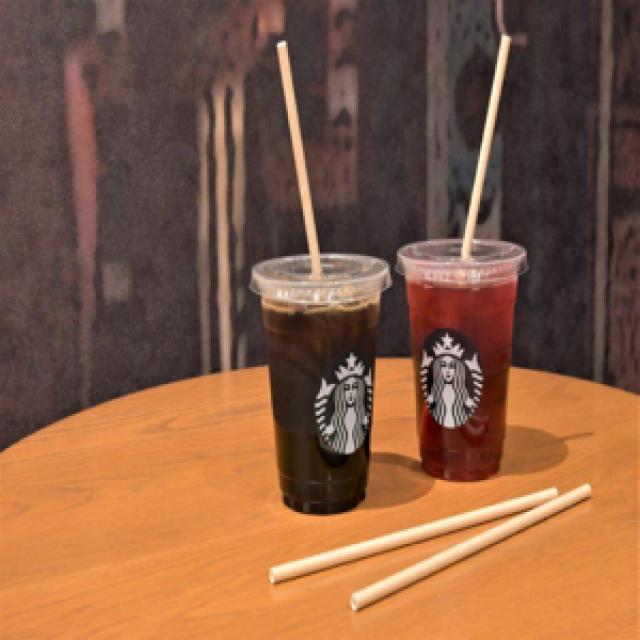plastic cup: (382, 214, 529, 504), (244, 230, 390, 520)
